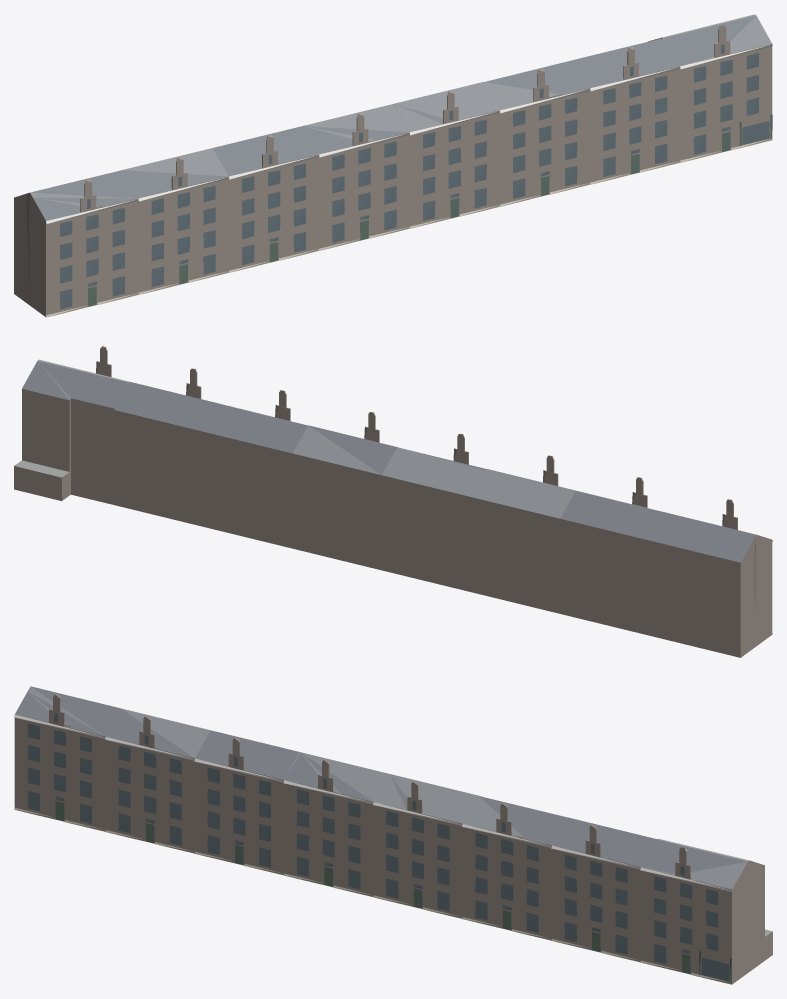
The model's file is chunk-face-marnix-124-138.lod2.glb.
3 renders of one model, top to bottom at view 1: azimuth 30°, elevation 25°; view 2: azimuth 150°, elevation 25°; view 3: azimuth 330°, elevation 25°, orthographic.
Visible parts, largest first — view 1: lod2; view 2: lod2; view 3: lod2.
Part boxes in pixels (x1,y1,x2,y2): lod2: (14, 14, 772, 317); lod2: (14, 346, 772, 657); lod2: (14, 686, 772, 984).
Bounding box in the file's own units: 104 × 17.41 × 10.45.
